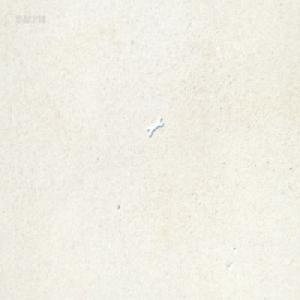Wrench: (146, 116, 164, 136)
